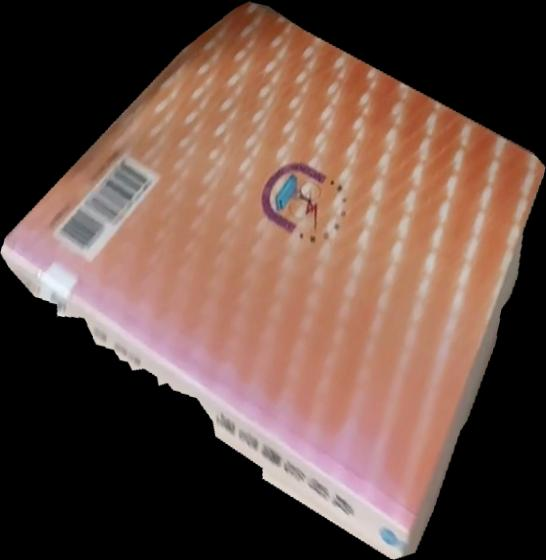flat: (1, 1, 546, 560)
